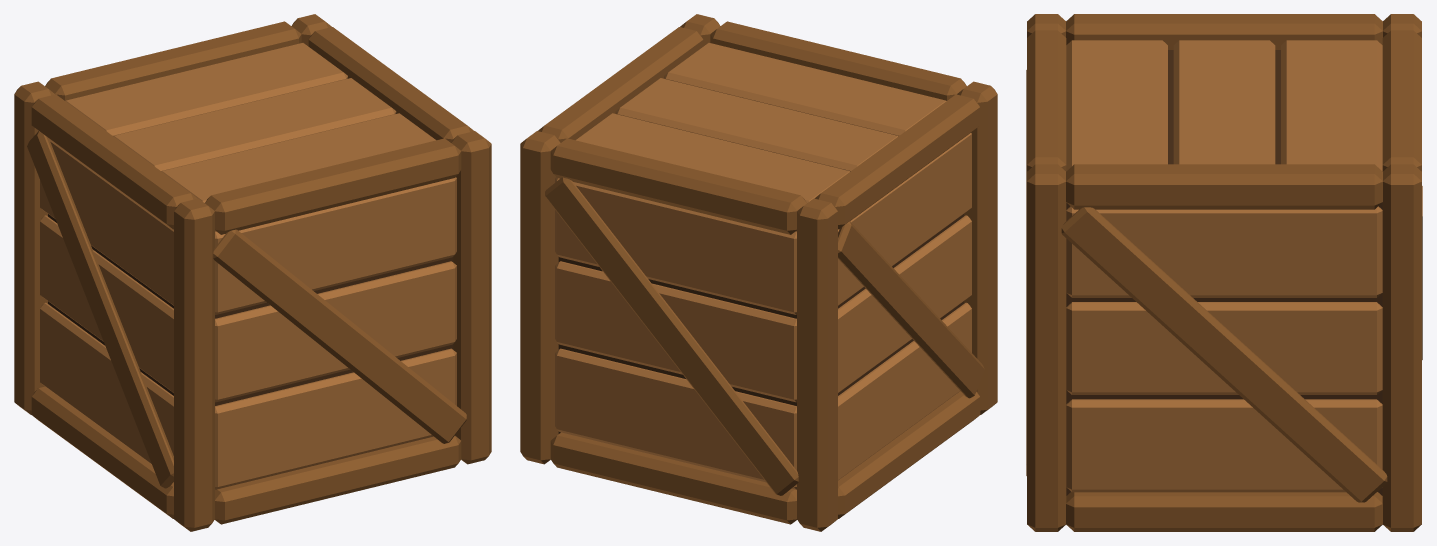
The model's file is Prop_Crate.fbx.
3 views of the same model, side by side, from view 1: azimuth 30°, elevation 25°; view 2: azimuth 150°, elevation 25°; view 3: azimuth 270°, elevation 25° (orthographic). The views are drawn at different scales.
Visible parts, largest first — view 1: Prop_Crate; view 2: Prop_Crate; view 3: Prop_Crate.
Boxes of the visible parts, <box> form: Prop_Crate: <box>14,14,491,531</box>; Prop_Crate: <box>520,14,997,531</box>; Prop_Crate: <box>1026,14,1422,531</box>.
Bounding box in the file's own units: 0.702 × 0.7 × 0.702.
